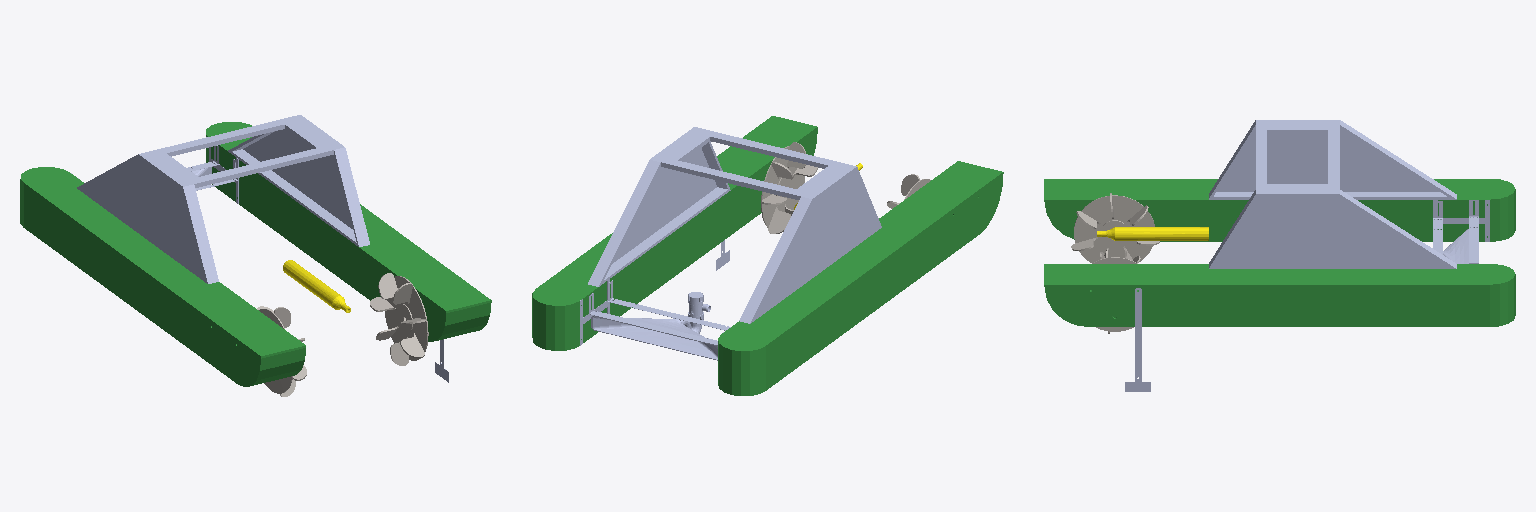
The robot description file, URDF, robot "Assem2.SLDASM":
<?xml version="1.0" encoding="utf-8"?>
<!-- This URDF was automatically created by SolidWorks to URDF Exporter! Originally created by [author] ([email redacted]) 
     Commit Version: 1.6.0-4-g7f85cfe  Build Version: 1.6.7995.38578
     For more information, please see http://wiki.ros.org/sw_urdf_exporter -->
<robot
  name="Assem2.SLDASM">
  <link
    name="base_link">
    <inertial>
      <origin
        xyz="-6.99440505513849E-15 1.10103519706159 0.00344258551504806"
        rpy="0 0 0" />
      <mass
        value="2.17957713322354" />
      <inertia
        ixx="0.178998504386709"
        ixy="5.06325927071686E-16"
        ixz="-2.64548430330197E-16"
        iyy="0.130111023279006"
        iyz="3.0330396057222E-05"
        izz="0.290729649302987" />
    </inertial>
    <visual>
      <origin
        xyz="0 0 0"
        rpy="0 0 0" />
      <geometry>
        <mesh
          filename="package://Assem2.SLDASM/meshes/base_link.STL" />
      </geometry>
      <material
        name="">
        <color
          rgba="1 1 1 0.4" />
      </material>
    </visual>
    <collision>
      <origin
        xyz="0 0 0"
        rpy="0 0 0" />
      <geometry>
        <mesh
          filename="package://Assem2.SLDASM/meshes/base_link.STL" />
      </geometry>
    </collision>
  </link>
  <link
    name="Link_Robot_Front_Attachments">
    <inertial>
      <origin
        xyz="-0.110993083185633 -0.0209688861158467 -0.00942961030516387"
        rpy="0 0 0" />
      <mass
        value="0.973903374699208" />
      <inertia
        ixx="0.0123670881249229"
        ixy="0.00152634507018076"
        ixz="9.35071385864195E-07"
        iyy="0.0163784182374264"
        iyz="4.88372744349265E-06"
        izz="0.00726600026096406" />
    </inertial>
    <visual>
      <origin
        xyz="0 0 0"
        rpy="0 0 0" />
      <geometry>
        <mesh
          filename="package://Assem2.SLDASM/meshes/Link_Robot_Front_Attachments.STL" />
      </geometry>
      <material
        name="">
        <color
          rgba="0.792156862745098 0.819607843137255 0.933333333333333 1" />
      </material>
    </visual>
    <collision>
      <origin
        xyz="0 0 0"
        rpy="0 0 0" />
      <geometry>
        <mesh
          filename="package://Assem2.SLDASM/meshes/Link_Robot_Front_Attachments.STL" />
      </geometry>
    </collision>
  </link>
  <joint
    name="Joint_Robot_Front_Attachments"
    type="fixed">
    <origin
      xyz="0 1.54252445791832 -0.10004"
      rpy="1.5707963267949 0 -1.57079632679489" />
    <parent
      link="base_link" />
    <child
      link="Link_Robot_Front_Attachments" />
    <axis
      xyz="0 0 0" />
  </joint>
  <link
    name="Link_Side_Left">
    <inertial>
      <origin
        xyz="0.104919265146604 0.101118372719001 0.996926007551461"
        rpy="0 0 0" />
      <mass
        value="81.8084350434166" />
      <inertia
        ixx="26.245543933313"
        ixy="-2.30945824663971E-05"
        ixz="-0.00577226346636962"
        iyy="26.2724801461104"
        iyz="-0.0881450822013043"
        izz="0.567958263795021" />
    </inertial>
    <visual>
      <origin
        xyz="0 0 0"
        rpy="0 0 0" />
      <geometry>
        <mesh
          filename="package://Assem2.SLDASM/meshes/Link_Side_Left.STL" />
      </geometry>
      <material
        name="">
        <color
          rgba="0.286274509803922 0.662745098039216 0.329411764705882 1" />
      </material>
    </visual>
    <collision>
      <origin
        xyz="0 0 0"
        rpy="0 0 0" />
      <geometry>
        <mesh
          filename="package://Assem2.SLDASM/meshes/Link_Side_Left.STL" />
      </geometry>
    </collision>
  </link>
  <joint
    name="Joint_Side_Left"
    type="fixed">
    <origin
      xyz="-0.535000000000017 2.01 -0.2"
      rpy="1.5707963267949 0 0" />
    <parent
      link="base_link" />
    <child
      link="Link_Side_Left" />
    <axis
      xyz="0 0 0" />
  </joint>
  <link
    name="Link_Left_Fan">
    <inertial>
      <origin
        xyz="2.77555756156289E-16 0.0203953252144143 -2.22044604925031E-16"
        rpy="0 0 0" />
      <mass
        value="0.825243626112143" />
      <inertia
        ixx="0.00759152180746469"
        ixy="-2.56221020279383E-18"
        ixz="8.67361737988404E-19"
        iyy="0.0142303156032698"
        iyz="6.35255307100973E-18"
        izz="0.00759152180746468" />
    </inertial>
    <visual>
      <origin
        xyz="0 0 0"
        rpy="0 0 0" />
      <geometry>
        <mesh
          filename="package://Assem2.SLDASM/meshes/Link_Left_Fan.STL" />
      </geometry>
      <material
        name="">
        <color
          rgba="0.780392156862745 0.76078431372549 0.741176470588235 1" />
      </material>
    </visual>
    <collision>
      <origin
        xyz="0 0 0"
        rpy="0 0 0" />
      <geometry>
        <mesh
          filename="package://Assem2.SLDASM/meshes/Link_Left_Fan.STL" />
      </geometry>
    </collision>
  </link>
  <joint
    name="Joint_Left_Fan"
    type="continuous">
    <origin
      xyz="0.22 0.0499999999999999 1.71"
      rpy="3.14159265358979 0.590305077357297 1.5707963267949" />
    <parent
      link="Link_Side_Left" />
    <child
      link="Link_Left_Fan" />
    <axis
      xyz="0 1 0" />
  </joint>
  <link
    name="Link_Side_Right">
    <inertial>
      <origin
        xyz="0.104919265146604 0.101118372719001 0.996926007551461"
        rpy="0 0 0" />
      <mass
        value="81.8084350434166" />
      <inertia
        ixx="26.245543933313"
        ixy="-2.30945824663705E-05"
        ixz="-0.00577226346637045"
        iyy="26.2724801461104"
        iyz="-0.0881450822013042"
        izz="0.567958263795021" />
    </inertial>
    <visual>
      <origin
        xyz="0 0 0"
        rpy="0 0 0" />
      <geometry>
        <mesh
          filename="package://Assem2.SLDASM/meshes/Link_Side_Right.STL" />
      </geometry>
      <material
        name="">
        <color
          rgba="0.286274509803922 0.662745098039216 0.329411764705882 1" />
      </material>
    </visual>
    <collision>
      <origin
        xyz="0 0 0"
        rpy="0 0 0" />
      <geometry>
        <mesh
          filename="package://Assem2.SLDASM/meshes/Link_Side_Right.STL" />
      </geometry>
    </collision>
  </link>
  <joint
    name="Joint_Side_Right"
    type="fixed">
    <origin
      xyz="0.324999999999983 2.01 -0.2"
      rpy="1.5707963267949 0 0" />
    <parent
      link="base_link" />
    <child
      link="Link_Side_Right" />
    <axis
      xyz="0 0 0" />
  </joint>
  <link
    name="Link_Right_Fan">
    <inertial>
      <origin
        xyz="0 0.0203953252144143 0"
        rpy="0 0 0" />
      <mass
        value="0.825243626112141" />
      <inertia
        ixx="0.00759152180746467"
        ixy="-2.10393213758413E-18"
        ixz="-4.98732999343332E-18"
        iyy="0.0142303156032698"
        iyz="2.26567933441001E-18"
        izz="0.00759152180746466" />
    </inertial>
    <visual>
      <origin
        xyz="0 0 0"
        rpy="0 0 0" />
      <geometry>
        <mesh
          filename="package://Assem2.SLDASM/meshes/Link_Right_Fan.STL" />
      </geometry>
      <material
        name="">
        <color
          rgba="0.780392156862745 0.76078431372549 0.741176470588235 1" />
      </material>
    </visual>
    <collision>
      <origin
        xyz="0 0 0"
        rpy="0 0 0" />
      <geometry>
        <mesh
          filename="package://Assem2.SLDASM/meshes/Link_Right_Fan.STL" />
      </geometry>
    </collision>
  </link>
  <joint
    name="Joint_Right_Fan"
    type="continuous">
    <origin
      xyz="-0.00999999999999995 0.05 1.70999999999999"
      rpy="3.14159265358979 -0.357558804142984 -1.5707963267949" />
    <parent
      link="Link_Side_Right" />
    <child
      link="Link_Right_Fan" />
    <axis
      xyz="0 1 0" />
  </joint>
  <link
    name="Link_Left_Metal">
    <inertial>
      <origin
        xyz="0.565954361793534 0.132380012619458 -0.0180374997719361"
        rpy="0 0 0" />
      <mass
        value="1.86329947852884" />
      <inertia
        ixx="0.0303193760291818"
        ixy="-0.0118768193945372"
        ixz="-9.69091887674537E-18"
        iyy="0.158217746859194"
        iyz="-1.28475159018914E-17"
        izz="0.187968319674362" />
    </inertial>
    <visual>
      <origin
        xyz="0 0 0"
        rpy="0 0 0" />
      <geometry>
        <mesh
          filename="package://Assem2.SLDASM/meshes/Link_Left_Metal.STL" />
      </geometry>
      <material
        name="">
        <color
          rgba="0.792156862745098 0.819607843137255 0.933333333333333 1" />
      </material>
    </visual>
    <collision>
      <origin
        xyz="0 0 0"
        rpy="0 0 0" />
      <geometry>
        <mesh
          filename="package://Assem2.SLDASM/meshes/Link_Left_Metal.STL" />
      </geometry>
    </collision>
  </link>
  <joint
    name="Joint_Left_Metal"
    type="fixed">
    <origin
      xyz="-0.375000000000015 1.76 0"
      rpy="1.5707963267949 0 -1.57079632679489" />
    <parent
      link="base_link" />
    <child
      link="Link_Left_Metal" />
    <axis
      xyz="0 0 0" />
  </joint>
  <link
    name="Link_Right_Metal">
    <inertial>
      <origin
        xyz="0.565954361793534 0.132380012619458 -0.0319625002280638"
        rpy="0 0 0" />
      <mass
        value="1.86329947852884" />
      <inertia
        ixx="0.0303193760291818"
        ixy="-0.0118768193945371"
        ixz="-2.97907748819959E-18"
        iyy="0.158217746859193"
        iyz="-8.99542545330207E-18"
        izz="0.187968319674362" />
    </inertial>
    <visual>
      <origin
        xyz="0 0 0"
        rpy="0 0 0" />
      <geometry>
        <mesh
          filename="package://Assem2.SLDASM/meshes/Link_Right_Metal.STL" />
      </geometry>
      <material
        name="">
        <color
          rgba="0.792156862745098 0.819607843137255 0.933333333333333 1" />
      </material>
    </visual>
    <collision>
      <origin
        xyz="0 0 0"
        rpy="0 0 0" />
      <geometry>
        <mesh
          filename="package://Assem2.SLDASM/meshes/Link_Right_Metal.STL" />
      </geometry>
    </collision>
  </link>
  <joint
    name="Joint_Right_Metal"
    type="fixed">
    <origin
      xyz="0.324999999999985 1.76000000000001 0"
      rpy="1.5707963267949 0 -1.57079632679489" />
    <parent
      link="base_link" />
    <child
      link="Link_Right_Metal" />
    <axis
      xyz="0 0 0" />
  </joint>
  <link
    name="Link_Top_Metal">
    <inertial>
      <origin
        xyz="0.325 0.0100000000000001 -0.18"
        rpy="0 0 0" />
      <mass
        value="1.82" />
      <inertia
        ixx="0.0344933333333332"
        ixy="-4.0442953474234E-17"
        ixz="3.77543054117867E-17"
        iyy="0.127111833333333"
        iyz="-1.69671287246877E-17"
        izz="0.0927398333333331" />
    </inertial>
    <visual>
      <origin
        xyz="0 0 0"
        rpy="0 0 0" />
      <geometry>
        <mesh
          filename="package://Assem2.SLDASM/meshes/Link_Top_Metal.STL" />
      </geometry>
      <material
        name="">
        <color
          rgba="0.792156862745098 0.819607843137255 0.933333333333333 1" />
      </material>
    </visual>
    <collision>
      <origin
        xyz="0 0 0"
        rpy="0 0 0" />
      <geometry>
        <mesh
          filename="package://Assem2.SLDASM/meshes/Link_Top_Metal.STL" />
      </geometry>
    </collision>
  </link>
  <joint
    name="Joint_Top_Metal"
    type="fixed">
    <origin
      xyz="-0.325000000000007 0.901375000000002 0.331387406397839"
      rpy="1.5707963267949 0 0" />
    <parent
      link="base_link" />
    <child
      link="Link_Top_Metal" />
    <axis
      xyz="0 0 0" />
  </joint>
  <link
    name="Link_Lackaging">
    <inertial>
      <origin
        xyz="-1.37922115839295E-07 0.000260439184406436 -0.22106537110126"
        rpy="0 0 0" />
      <mass
        value="0.373244504052969" />
      <inertia
        ixx="0.00619580454940661"
        ixy="-1.14148138610347E-09"
        ixz="2.97540171850276E-09"
        iyy="0.00619819616642874"
        iyz="-1.72909730673878E-05"
        izz="0.000270307716248751" />
    </inertial>
    <visual>
      <origin
        xyz="0 0 0"
        rpy="0 0 0" />
      <geometry>
        <mesh
          filename="package://Assem2.SLDASM/meshes/Link_Lackaging.STL" />
      </geometry>
      <material
        name="">
        <color
          rgba="1 0.937254901960784 0.137254901960784 1" />
      </material>
    </visual>
    <collision>
      <origin
        xyz="0 0 0"
        rpy="0 0 0" />
      <geometry>
        <mesh
          filename="package://Assem2.SLDASM/meshes/Link_Lackaging.STL" />
      </geometry>
    </collision>
  </link>
  <joint
    name="Joint_Lackaging"
    type="fixed">
    <origin
      xyz="0 0.702000000000005 -0.0100000000000001"
      rpy="1.5707963267949 0 -3.14159265358979" />
    <parent
      link="base_link" />
    <child
      link="Link_Lackaging" />
    <axis
      xyz="0 0 0" />
  </joint>
</robot>

--- Render facts (derived) ---
The picture shows the robot from 3 angles, left to right: view 1: azimuth 30°, elevation 25°; view 2: azimuth 150°, elevation 25°; view 3: azimuth 270°, elevation 25°; orthographic projection.
Model Assem2.SLDASM with 10 links and 9 joints (2 continuous, 7 fixed), rooted at base_link, posed all joints at 0.
Links seen in each view (by area): view 1: Link_Side_Left, Link_Side_Right, Link_Left_Metal, Link_Right_Metal, Link_Top_Metal, Link_Right_Fan, Link_Lackaging, Link_Left_Fan, Link_Robot_Front_Attachments; view 2: Link_Side_Left, Link_Side_Right, Link_Left_Metal, Link_Right_Metal, Link_Robot_Front_Attachments, Link_Top_Metal, Link_Right_Fan; view 3: Link_Side_Right, Link_Right_Metal, Link_Side_Left, Link_Left_Metal, Link_Left_Fan, Link_Robot_Front_Attachments, Link_Top_Metal, Link_Lackaging.
Link boxes in pixels (box(x1,y1,x2,y2)): Link_Side_Left: box(20, 167, 305, 386); Link_Side_Right: box(206, 122, 491, 341); Link_Left_Metal: box(77, 151, 218, 283); Link_Right_Metal: box(228, 115, 369, 246); Link_Top_Metal: box(150, 117, 333, 187); Link_Right_Fan: box(370, 273, 428, 365); Link_Lackaging: box(283, 260, 350, 312); Link_Left_Fan: box(257, 306, 306, 396); Link_Robot_Front_Attachments: box(71, 145, 448, 382); Link_Side_Left: box(718, 161, 1003, 395); Link_Side_Right: box(532, 116, 817, 350); Link_Left_Metal: box(739, 164, 881, 323); Link_Right_Metal: box(588, 127, 730, 286); Link_Robot_Front_Attachments: box(580, 240, 730, 360); Link_Top_Metal: box(661, 130, 844, 199); Link_Right_Fan: box(761, 142, 817, 233); Link_Side_Right: box(1044, 264, 1515, 326); Link_Right_Metal: box(1209, 189, 1456, 268); Link_Side_Left: box(1044, 179, 1515, 241); Link_Left_Metal: box(1209, 120, 1456, 199); Link_Left_Fan: box(1071, 193, 1159, 262); Link_Robot_Front_Attachments: box(1125, 200, 1489, 391); Link_Top_Metal: box(1256, 125, 1339, 188); Link_Lackaging: box(1097, 227, 1208, 240).
Bounding box of the posed robot: 1.07 × 2.01 × 0.8567 m (x, y, z).
Meshes: 10 distinct files referenced, 9 mesh visuals loaded (9 binary STL); not drawn: 1 (reference not matched to a file when rendering).